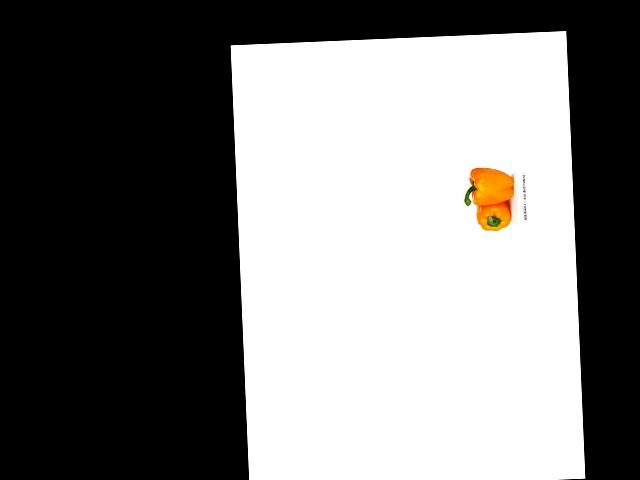bell_pepper: (473, 199, 513, 232)
